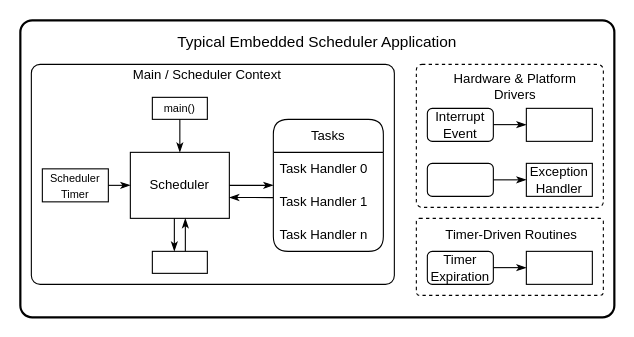
Image size: 634x337. Some labels were removed from this diagram. Each missing label, with the centre of its shape:
Exception Event: (x=459, y=179)
Interrupt Handler: (x=558, y=124)
Sleep: (x=179, y=261)
Timer Handler: (x=558, y=267)
